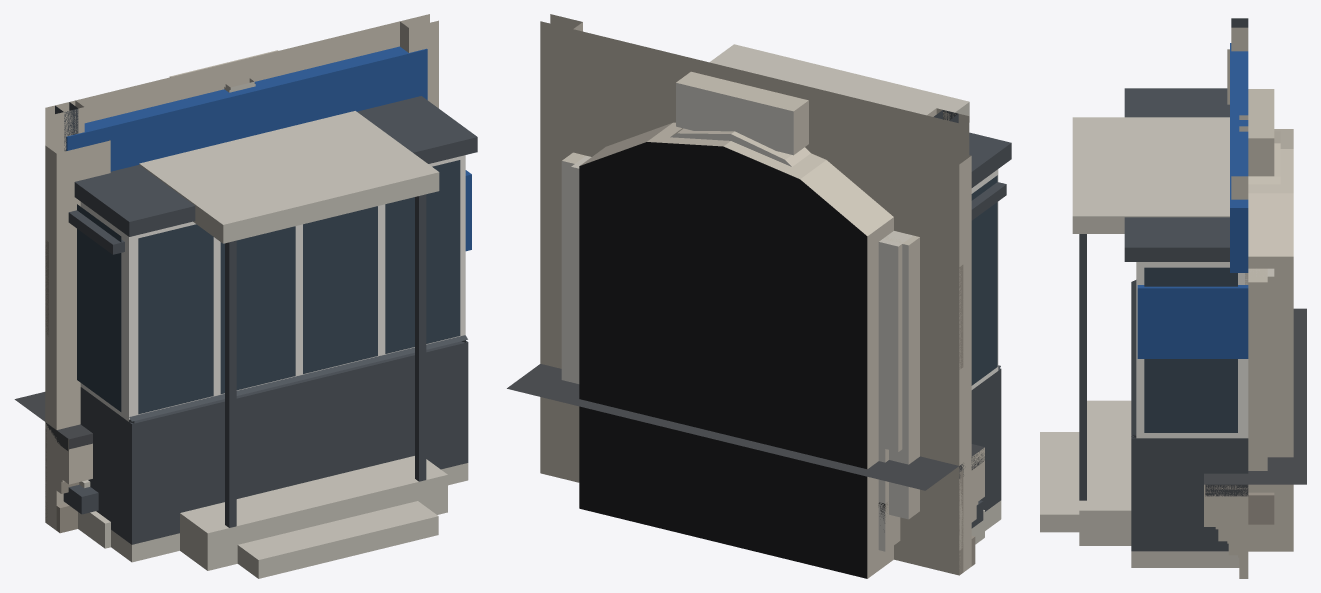
File: brick.glb
3 renders of one model, left to right at view 1: azimuth 30°, elevation 25°; view 2: azimuth 150°, elevation 25°; view 3: azimuth 270°, elevation 25°, orthographic. The views are drawn at different scales.
Parts seen in each view (by area): view 1: brick__balcony_glazed, brick__g_door, brick__g_shop, brick__wh_corner, brick__g_win, brick__wh_g_arch, brick__balcony, brick__wh_cap, brick__wh_g_door, brick__cap; view 2: brick__wh_g_door, brick__win, brick__g_door, brick__balcony_glazed, brick__g_win, brick__g_shop, brick__blank, brick__win_pair, brick__stair, brick__cap, brick__wh_corner, brick__balcony (+3 smaller); view 3: brick__g_door, brick__balcony_glazed, brick__g_shop, brick__wh_g_door, brick__cap, brick__wh_cap, brick__balcony, brick__wh_g_arch, brick__win_pair, brick__g_basement.
Boxes of the visible parts, x1=… form: brick__balcony_glazed: x1=47, y1=96, x2=477, y2=544; brick__g_door: x1=45, y1=14, x2=447, y2=578; brick__g_shop: x1=45, y1=14, x2=471, y2=548; brick__wh_corner: x1=45, y1=140, x2=110, y2=533; brick__g_win: x1=45, y1=14, x2=429, y2=149; brick__wh_g_arch: x1=54, y1=20, x2=438, y2=152; brick__balcony: x1=111, y1=335, x2=468, y2=562; brick__wh_cap: x1=15, y1=392, x2=92, y2=525; brick__wh_g_door: x1=85, y1=22, x2=399, y2=119; brick__cap: x1=14, y1=392, x2=68, y2=503; brick__wh_g_door: x1=573, y1=29, x2=900, y2=578; brick__win: x1=540, y1=62, x2=959, y2=553; brick__g_door: x1=540, y1=22, x2=983, y2=528; brick__balcony_glazed: x1=540, y1=62, x2=1011, y2=553; brick__g_win: x1=540, y1=21, x2=959, y2=471; brick__g_shop: x1=540, y1=21, x2=1006, y2=544; brick__blank: x1=540, y1=64, x2=958, y2=547; brick__win_pair: x1=540, y1=156, x2=959, y2=451; brick__stair: x1=540, y1=63, x2=959, y2=553; brick__cap: x1=507, y1=364, x2=984, y2=574; brick__wh_corner: x1=959, y1=155, x2=975, y2=571; brick__balcony: x1=541, y1=204, x2=1001, y2=554; brick__g_door: x1=1040, y1=18, x2=1274, y2=545; brick__balcony_glazed: x1=1124, y1=88, x2=1248, y2=551; brick__g_shop: x1=1137, y1=43, x2=1267, y2=470; brick__wh_g_door: x1=1239, y1=129, x2=1293, y2=551; brick__cap: x1=1205, y1=308, x2=1306, y2=557; brick__wh_cap: x1=1204, y1=308, x2=1306, y2=578; brick__balcony: x1=1131, y1=280, x2=1239, y2=567; brick__wh_g_arch: x1=1231, y1=27, x2=1280, y2=199; brick__win_pair: x1=1245, y1=268, x2=1274, y2=453; brick__g_basement: x1=1248, y1=492, x2=1274, y2=524.
Size of the model in its own units: 3.2 by 3.3 by 2.05.
